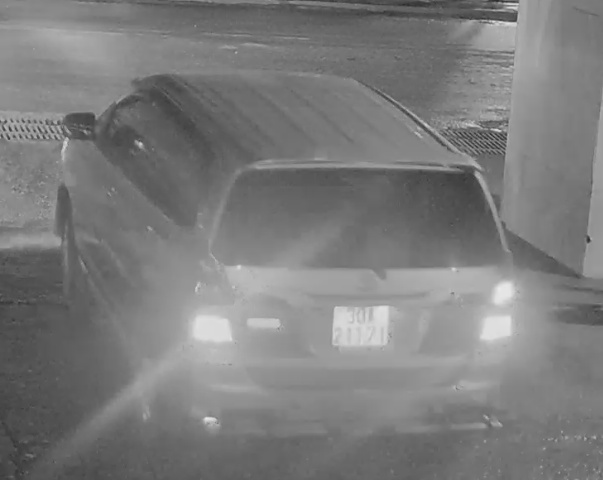vehicle plate: (328, 299, 393, 349)
